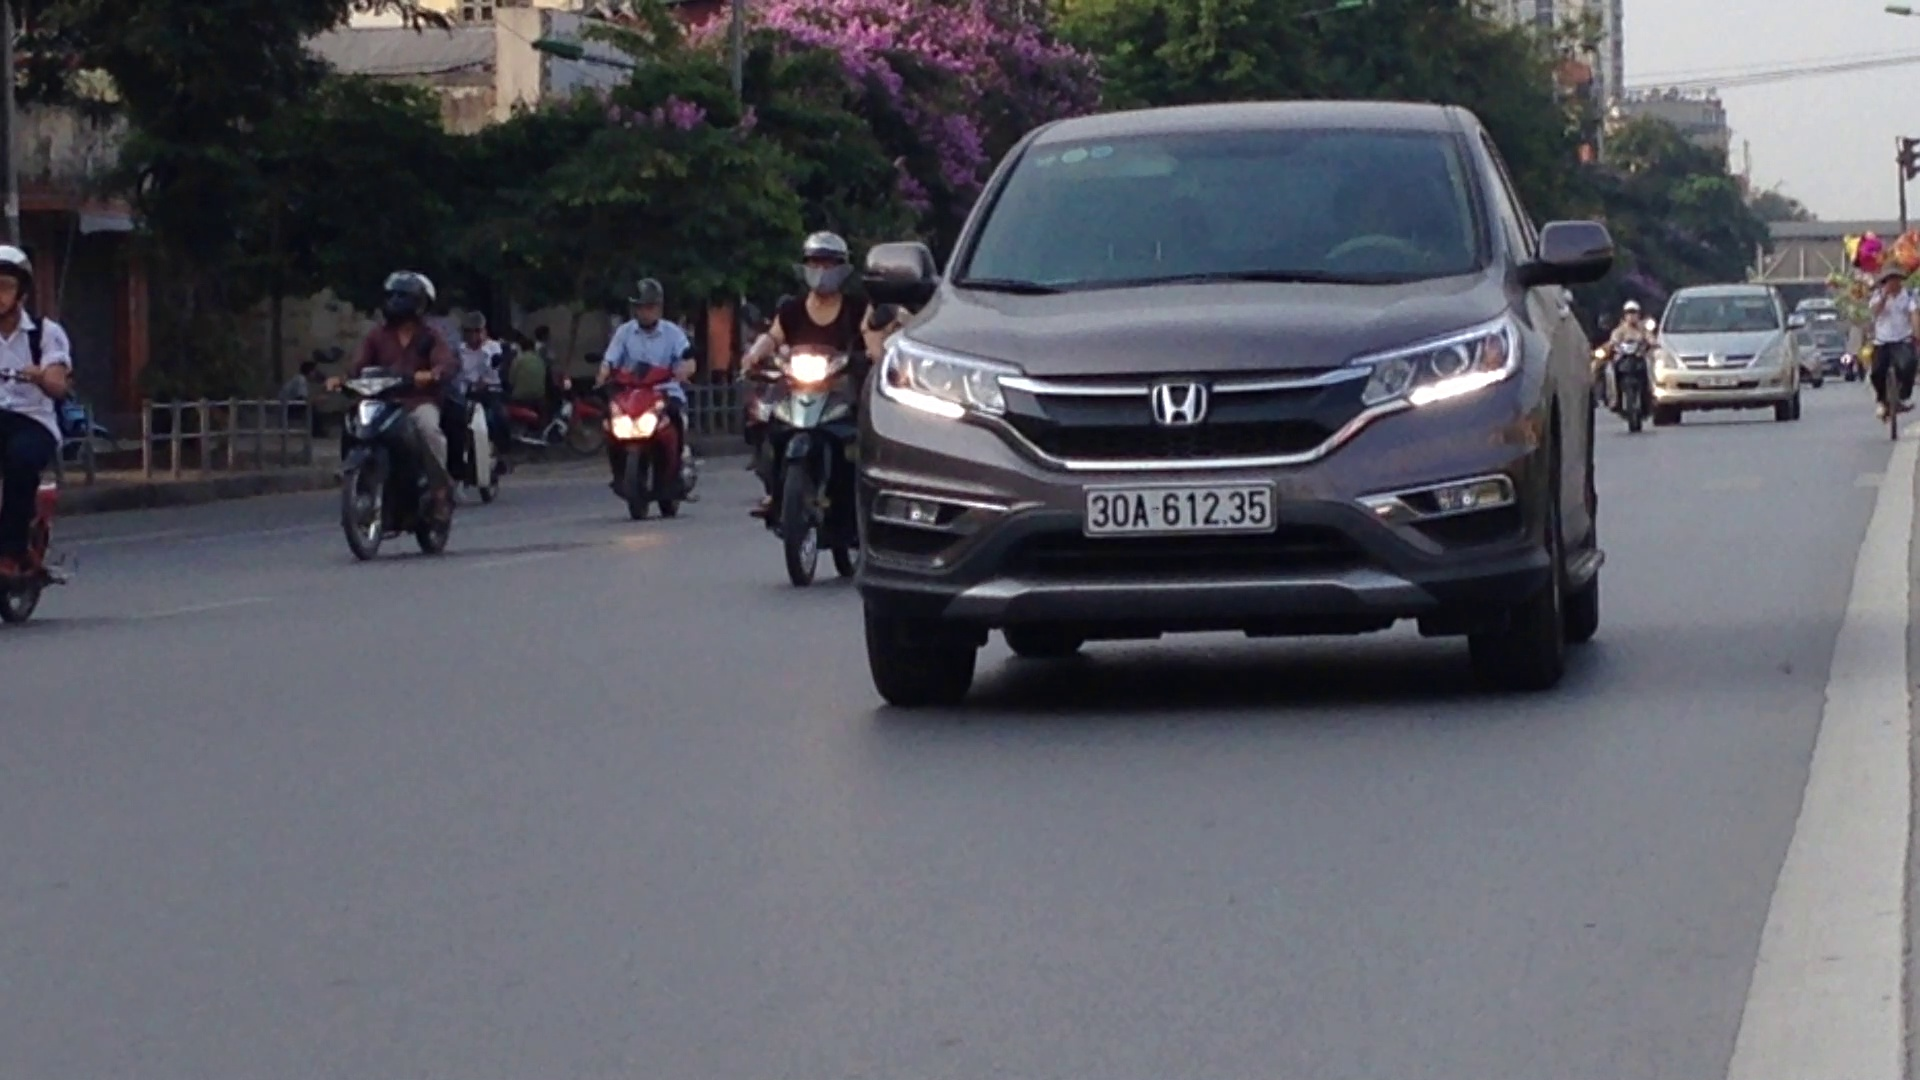vehicle-plate: (1078, 476, 1283, 538)
